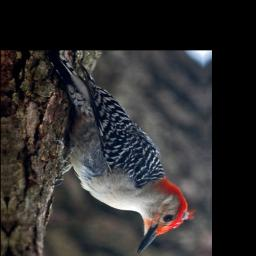Woodpecker: (46, 51, 197, 255)
